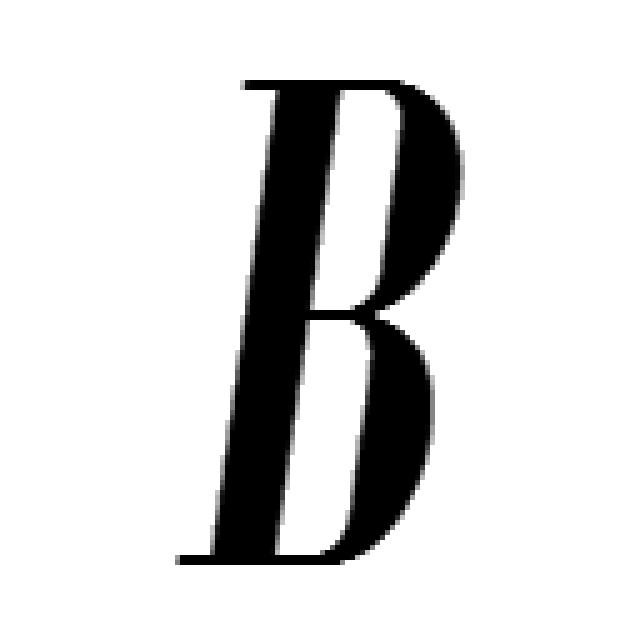B: (175, 80, 465, 570)
